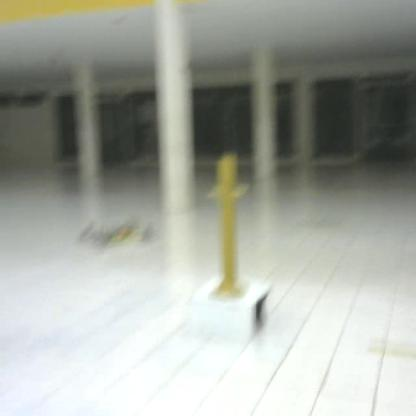pole: (207, 150, 254, 310)
